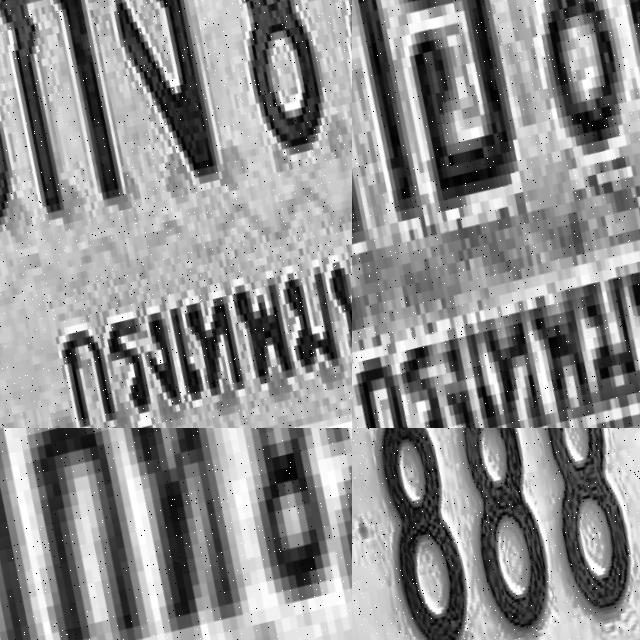license-plate: (0, 0, 352, 428), (352, 0, 640, 428), (0, 428, 352, 640), (352, 428, 640, 640)
